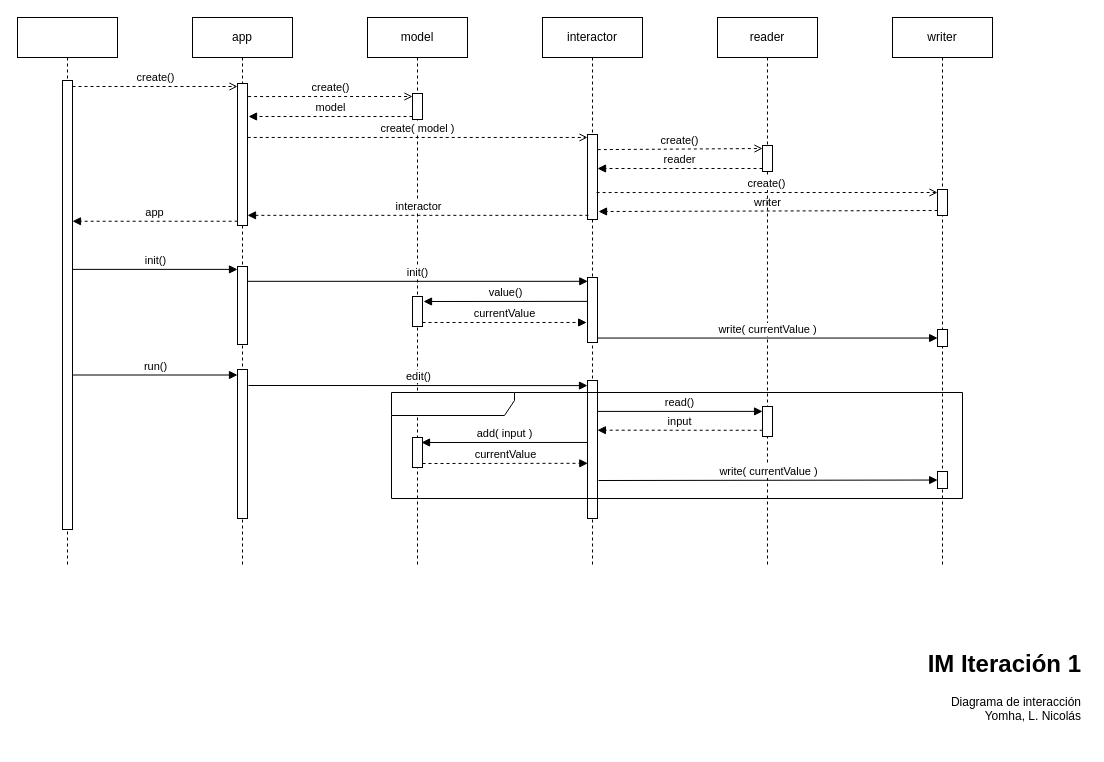
Some shapes in this 1104 by 762 pixel diagram are drawn without their labels. The shapes that lost their labels are listed below. From the top down, each one's box as (x1, y1, x2, y2) in pixels, then its label:
(16, 16, 118, 568): context
(390, 392, 962, 498): loop while input != 0
